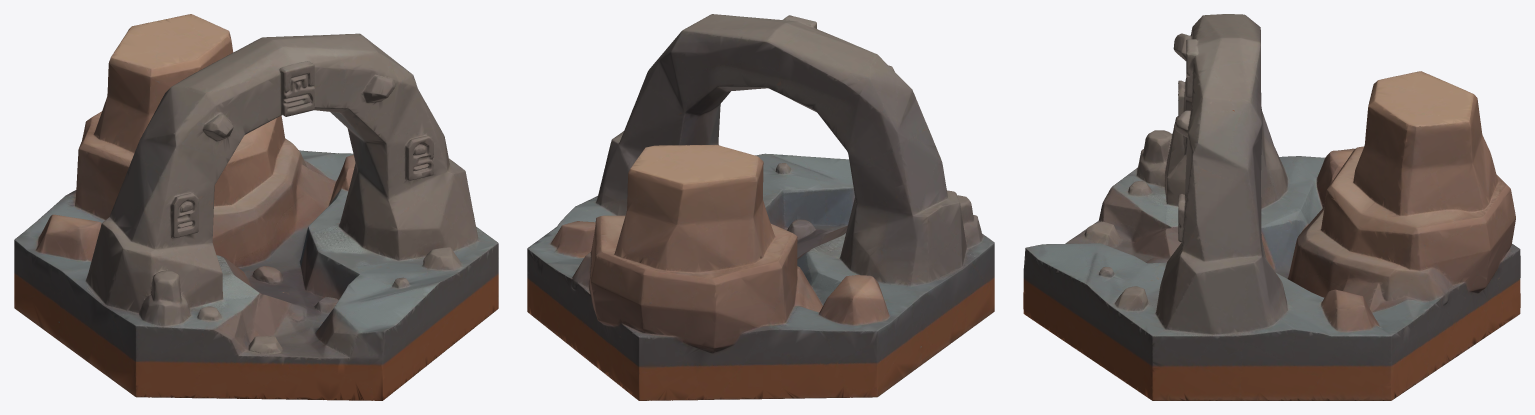
The model's file is rocktile_lv4.glb.
3 renders of one model, left to right at view 1: azimuth 30°, elevation 25°; view 2: azimuth 150°, elevation 25°; view 3: azimuth 270°, elevation 25°, orthographic. The views are drawn at different scales.
Bounding box in the file's own units: 1.58 × 1.16 × 1.9.
1 material, 1 textured.
